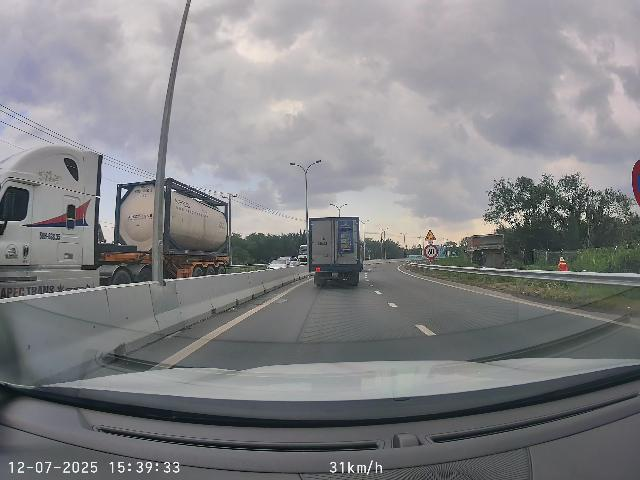127-toc-do-toi-da-60: (424, 244, 438, 259)
245-di-cham: (425, 229, 436, 241)
